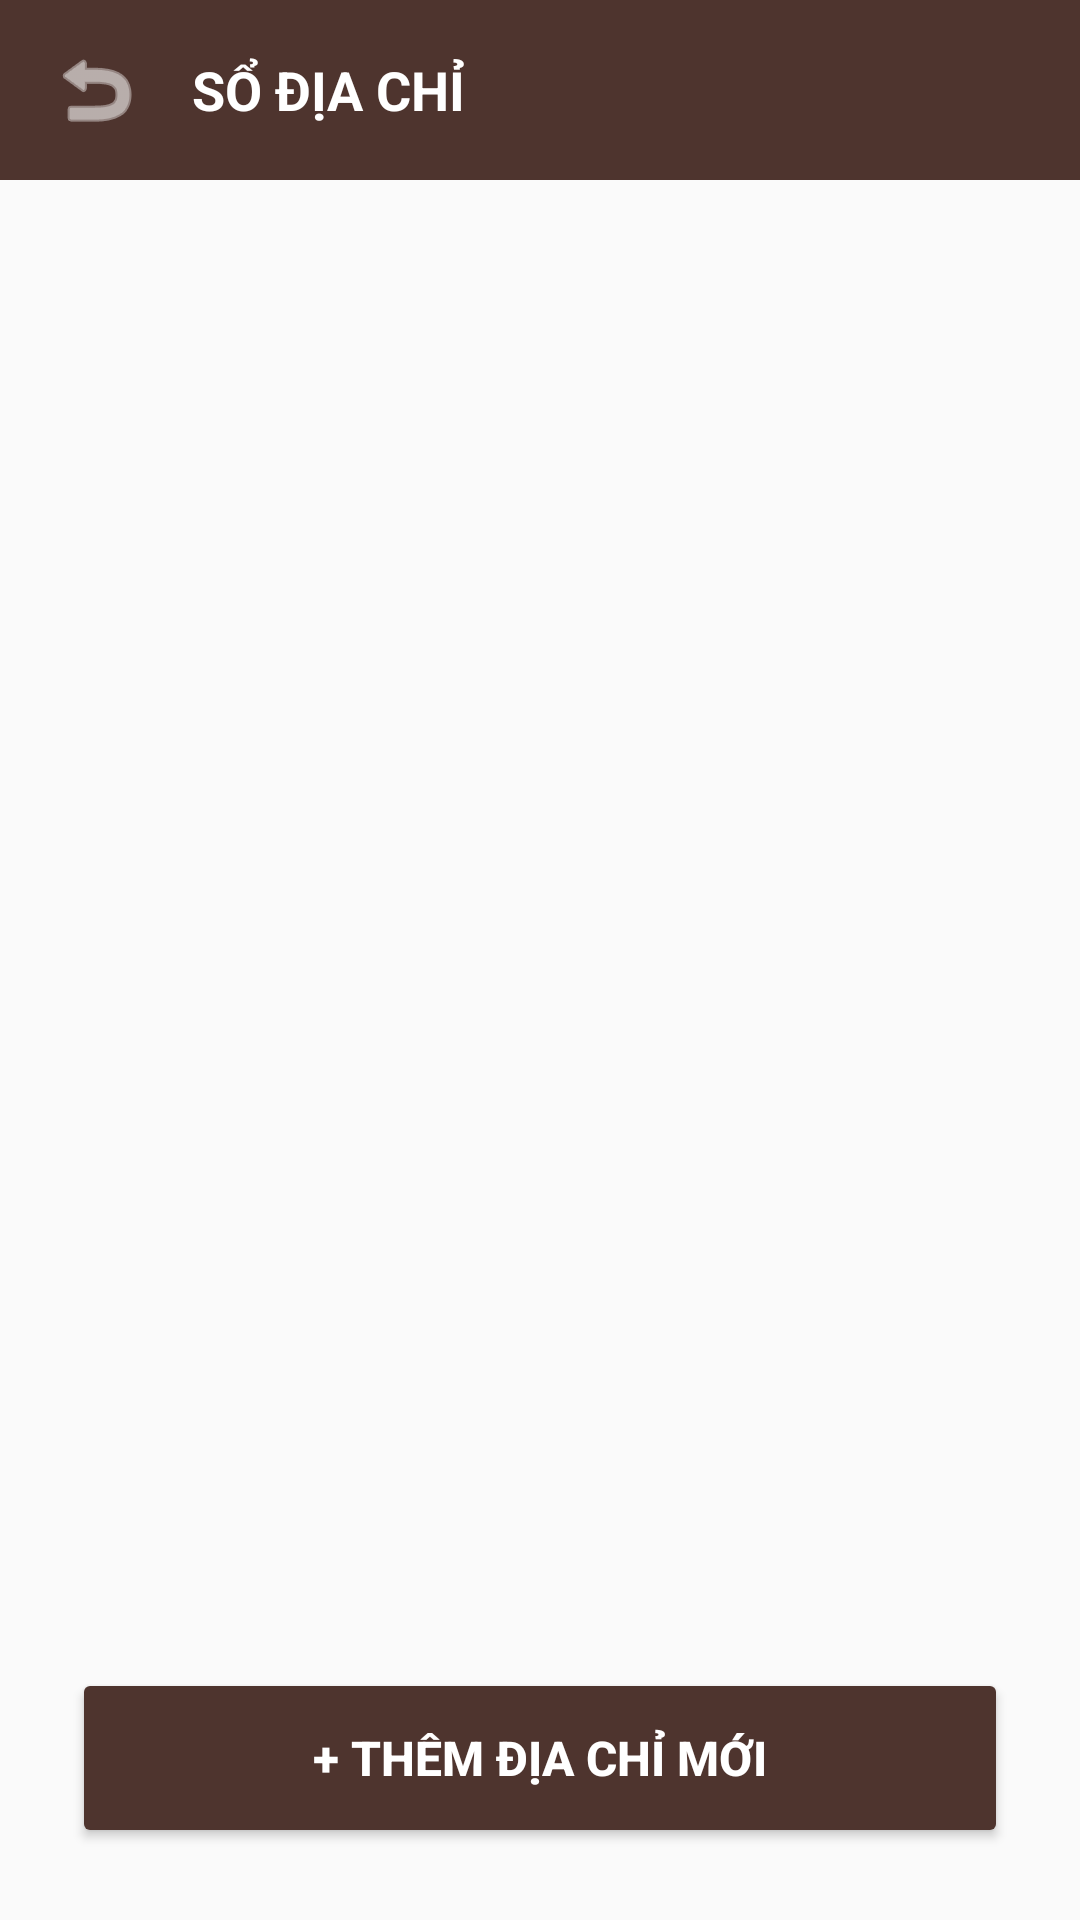

Named icons in this screenshot (1080×1920) and their centers, (x=x, y=y):
revert: (x=97, y=90)
